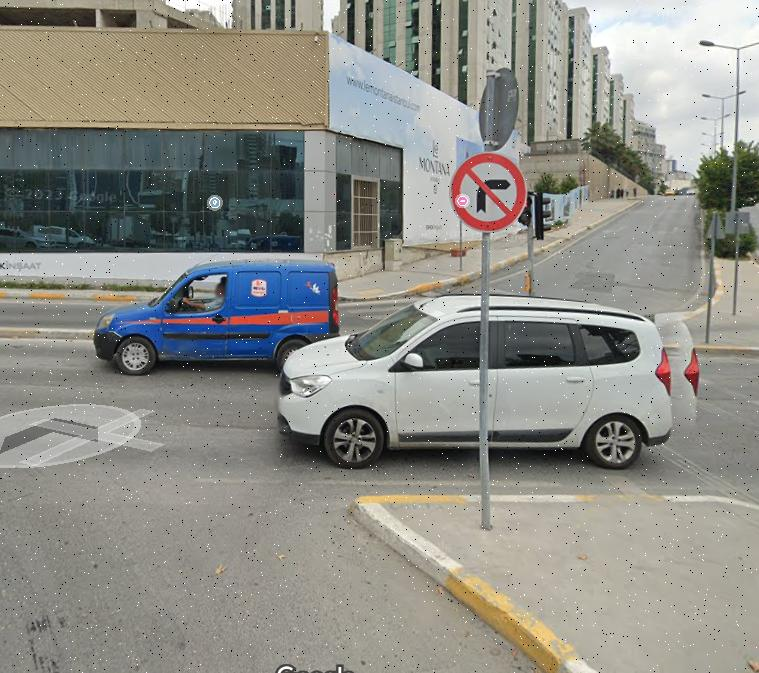rightturnsareforbidden: (450, 153, 527, 233)
